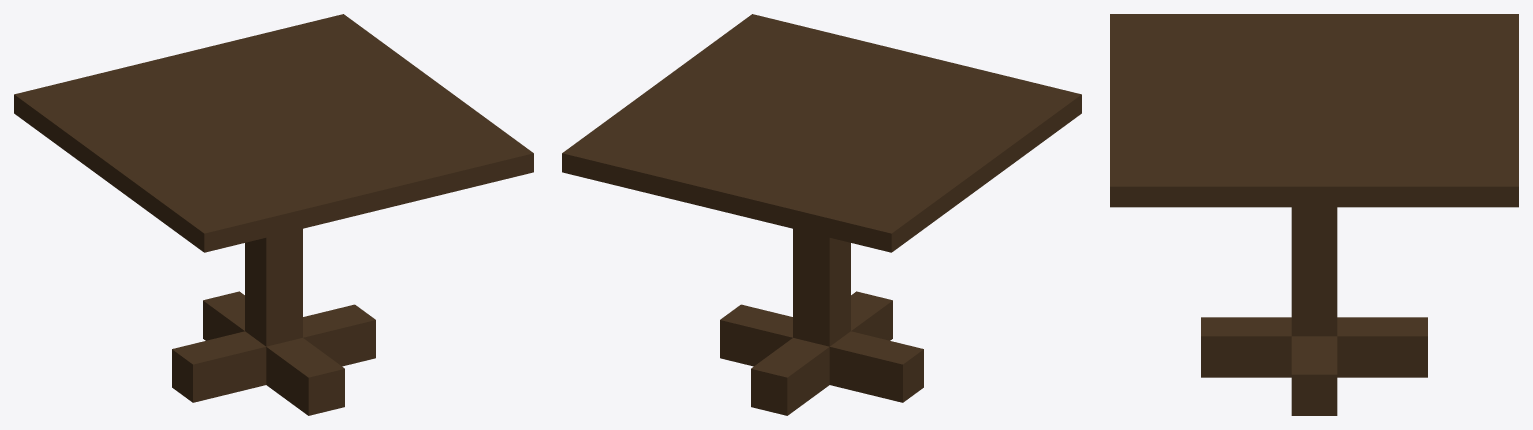
Rendered from Lp_wc_As_table.glb.
3 renders of one model, left to right at view 1: azimuth 30°, elevation 25°; view 2: azimuth 150°, elevation 25°; view 3: azimuth 270°, elevation 25°, orthographic. The views are drawn at different scales.
Parts seen in each view (by area): view 1: table; view 2: table; view 3: table.
Boxes of the visible parts, <box> form: table: <box>14,14,533,415</box>; table: <box>562,14,1081,415</box>; table: <box>1110,14,1518,415</box>.
Size of what is drawn, in the model's own units: 1.8 by 1.3 by 1.8.
